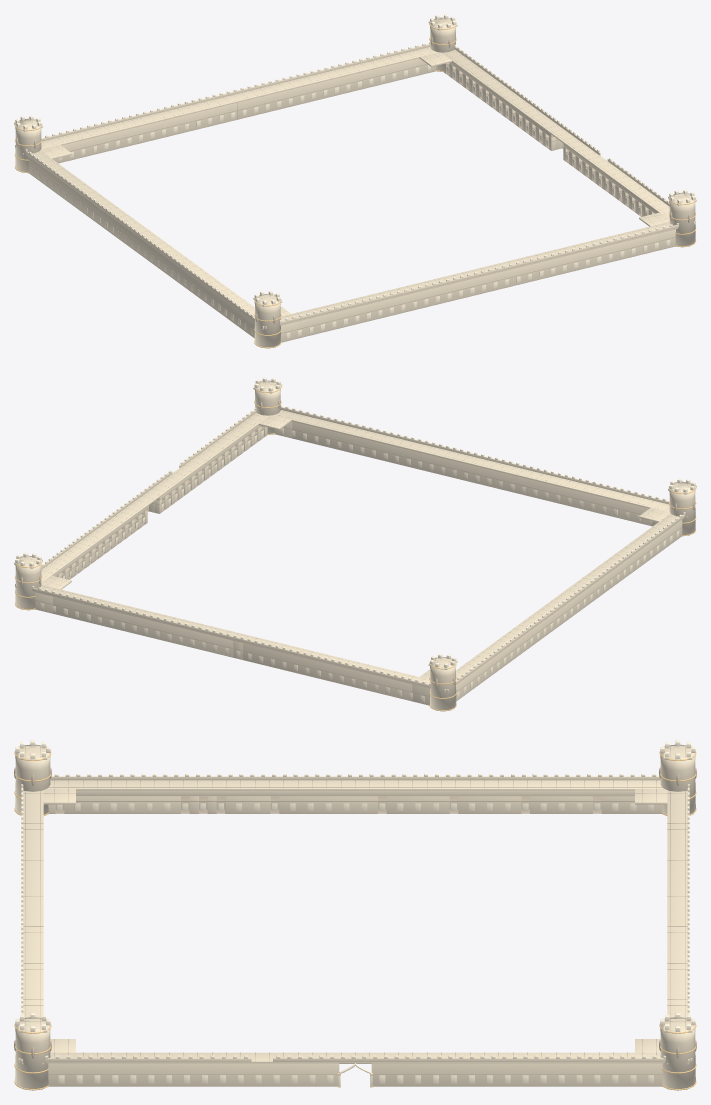
The model's file is castle_district_ramparts_purified.glb.
The picture shows the model from 3 angles, top to bottom: view 1: azimuth 30°, elevation 25°; view 2: azimuth 150°, elevation 25°; view 3: azimuth 270°, elevation 25°; orthographic projection. The views are drawn at different scales.
Visible parts, largest first — view 1: castle_district_ramparts_purified_surface; view 2: castle_district_ramparts_purified_surface; view 3: castle_district_ramparts_purified_surface.
Boxes of the visible parts, x1,y1,x2,y2 form: castle_district_ramparts_purified_surface: [14, 14, 696, 348]; castle_district_ramparts_purified_surface: [14, 377, 696, 711]; castle_district_ramparts_purified_surface: [14, 740, 696, 1090].
Size of the model in its own units: 191 by 19.3 by 191.
